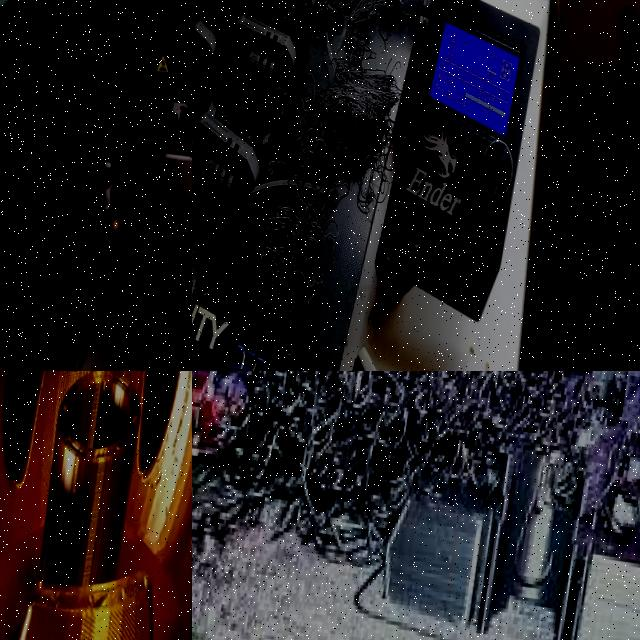spaghetti: (192, 371, 640, 566), (241, 173, 359, 352), (283, 49, 407, 207), (238, 0, 430, 59)
